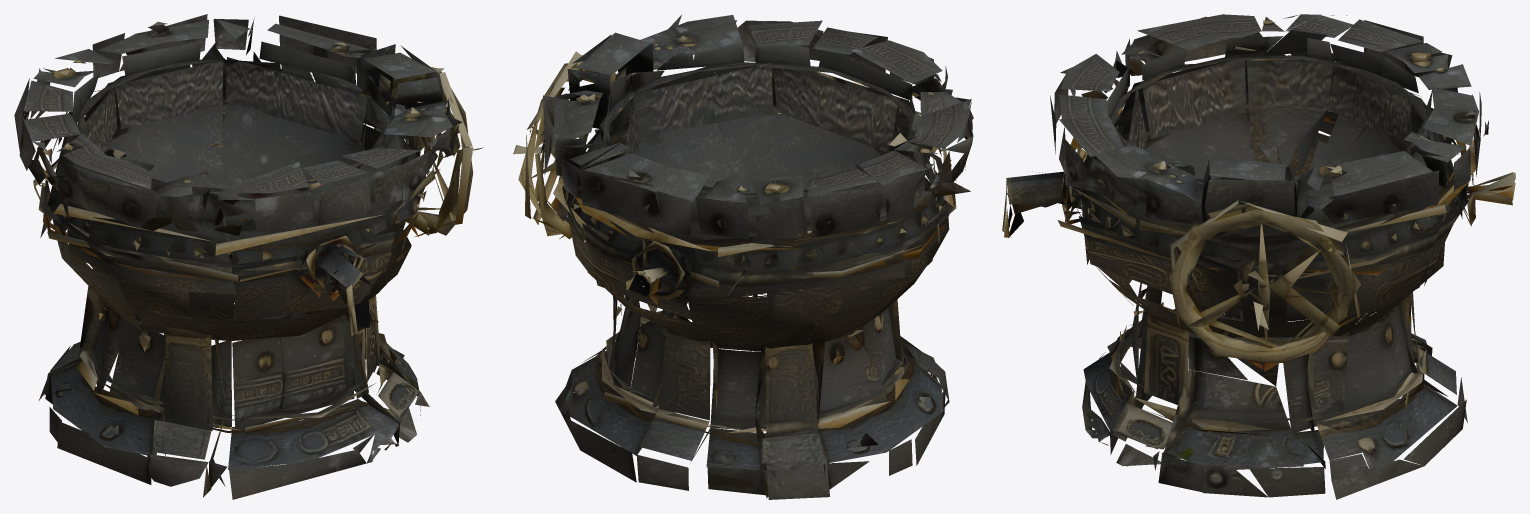
The model's file is ch2_hydraulic_cistern_valve_LOD3.glb.
3 renders of one model, left to right at view 1: azimuth 30°, elevation 25°; view 2: azimuth 150°, elevation 25°; view 3: azimuth 270°, elevation 25°, orthographic.
Visible parts, largest first — view 1: tripo_node_84130d39-5f79-4c77-8b50-4e8281992308; view 2: tripo_node_84130d39-5f79-4c77-8b50-4e8281992308; view 3: tripo_node_84130d39-5f79-4c77-8b50-4e8281992308.
Boxes of the visible parts, box(x1,y1,x2,y2) form: tripo_node_84130d39-5f79-4c77-8b50-4e8281992308: box(14, 14, 483, 499); tripo_node_84130d39-5f79-4c77-8b50-4e8281992308: box(513, 15, 973, 499); tripo_node_84130d39-5f79-4c77-8b50-4e8281992308: box(1002, 14, 1515, 499).
Size of the model in its own units: 0.9834 by 0.6993 by 0.9914.
1 material, 1 textured.
